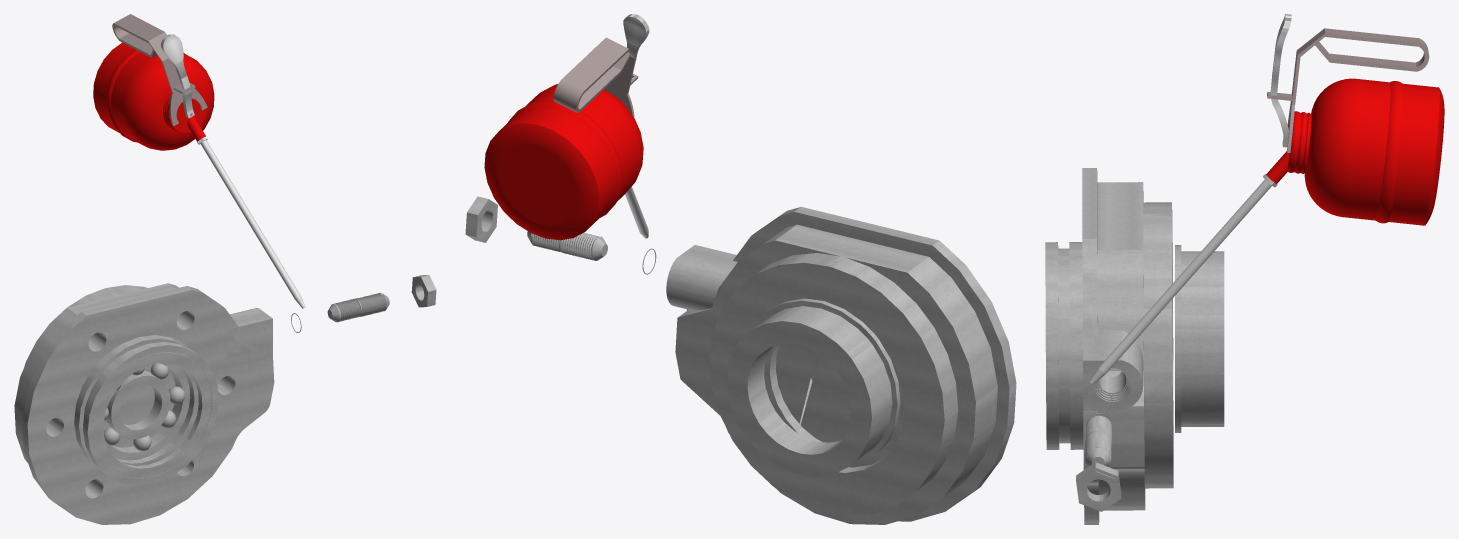
3 renders of one model, left to right at view 1: azimuth 30°, elevation 25°; view 2: azimuth 150°, elevation 25°; view 3: azimuth 270°, elevation 25°, orthographic. The views are drawn at different scales.
Visible parts, largest first — view 1: 3, Oiler, 2, 1, 7, 8; view 2: 3, Oiler, 4, 2, 7, 8; view 3: 3, Oiler, 4, 8, 7.
Part boxes in pixels (<box>): 3: <box>14,283,274,524</box>; Oiler: <box>93,14,305,308</box>; 2: <box>103,362,198,465</box>; 1: <box>94,352,211,478</box>; 7: <box>327,292,389,322</box>; 8: <box>411,275,436,307</box>; 3: <box>666,206,1016,524</box>; Oiler: <box>484,14,649,240</box>; 4: <box>726,298,900,477</box>; 2: <box>764,344,904,467</box>; 7: <box>527,231,607,260</box>; 8: <box>465,196,497,242</box>; 3: <box>1045,168,1173,524</box>; Oiler: <box>1089,14,1444,384</box>; 4: <box>1175,245,1224,432</box>; 8: <box>1076,462,1121,511</box>; 7: <box>1085,415,1111,466</box>.
Bounding box in the file's own units: 692 × 662 × 425.
11 materials, 8 textured.
